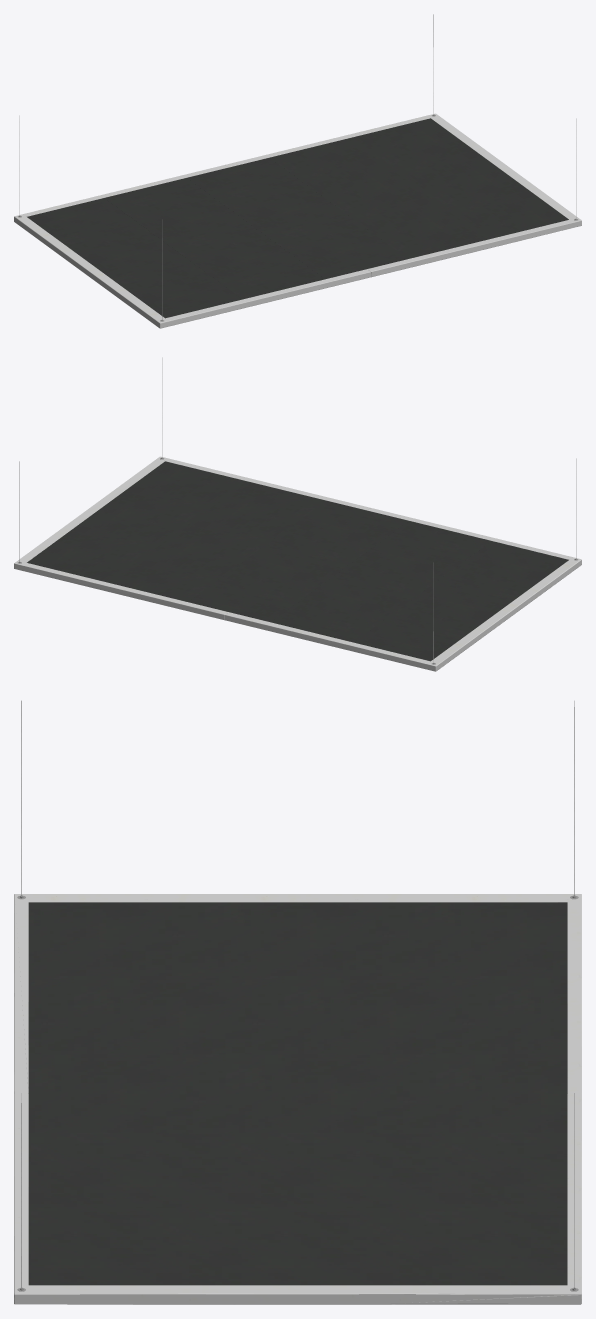
The model's file is hardware_led_panel.glb.
3 renders of one model, top to bottom at view 1: azimuth 30°, elevation 25°; view 2: azimuth 150°, elevation 25°; view 3: azimuth 270°, elevation 25°, orthographic. The views are drawn at different scales.
Visible parts, largest first — view 1: hardware_led_panel_1, hardware_led_panel_0; view 2: hardware_led_panel_1, hardware_led_panel_0; view 3: hardware_led_panel_1, hardware_led_panel_0, hardware_led_panel_3.
Part boxes in pixels (x1=…): hardware_led_panel_1: x1=27, y1=118, x2=568, y2=318; hardware_led_panel_0: x1=14, y1=113, x2=581, y2=328; hardware_led_panel_1: x1=27, y1=461, x2=568, y2=661; hardware_led_panel_0: x1=14, y1=456, x2=581, y2=671; hardware_led_panel_1: x1=28, y1=902, x2=567, y2=1285; hardware_led_panel_0: x1=14, y1=894, x2=581, y2=1304; hardware_led_panel_3: x1=21, y1=700, x2=574, y2=1288.
Bounding box in the file's own units: 6 × 1.46 × 3.6.
Materials: 5 (4 with a texture image).
